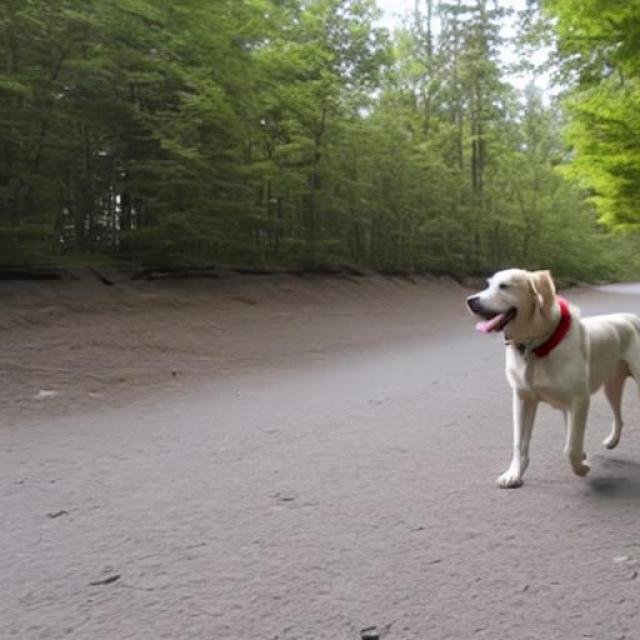Dog: (465, 268, 640, 486)
